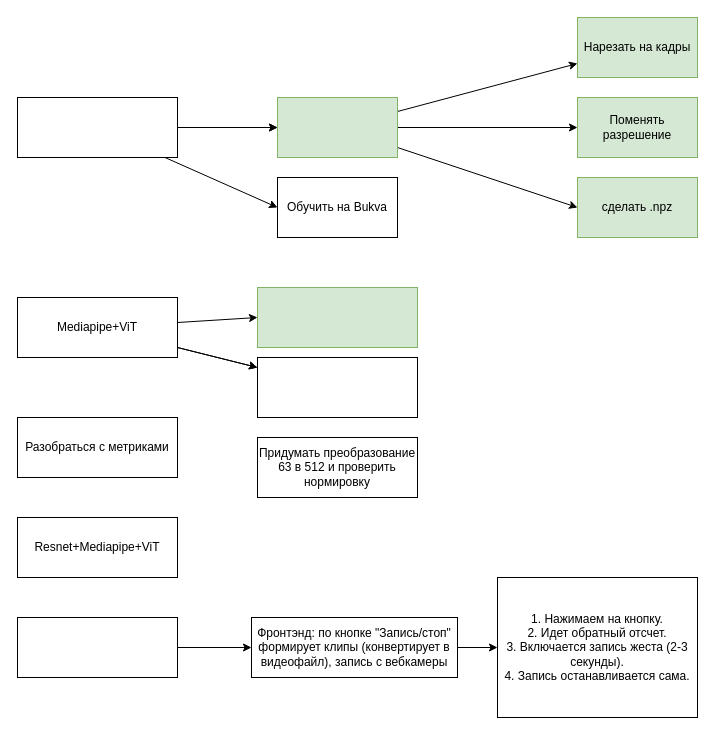
Image size: 715x735. Some labels were removed from this diagram. Here are the shapes that lost their labels. From the top down, the centre of each, then its label:
At pixel 97 127: "Resnet+ViT".
At pixel 337 127: "Bukva конвертировать в формат Briareo".
At pixel 337 317: "Bukva конвертировать в формат Mediapipe".
At pixel 337 387: "Переделать temporal.py + отключить обучение backbone".
At pixel 97 647: "Демонстрация".
